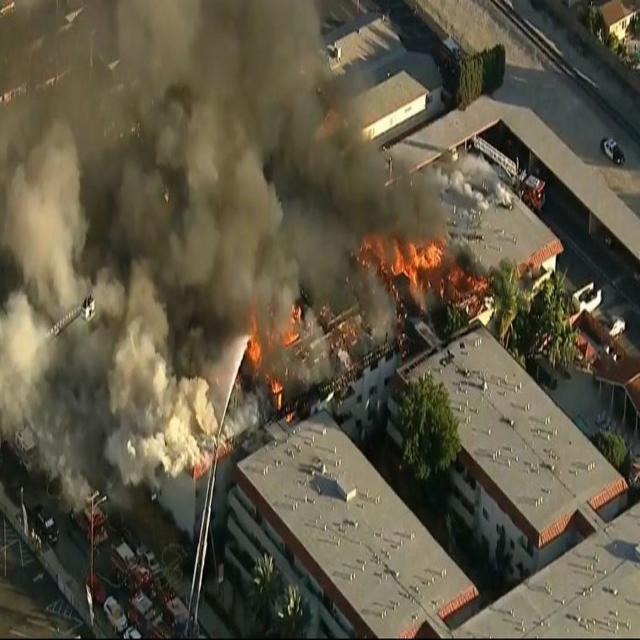Fire: (358, 230, 429, 280), (460, 268, 488, 306), (247, 330, 264, 364), (272, 322, 298, 344), (269, 380, 284, 410)
